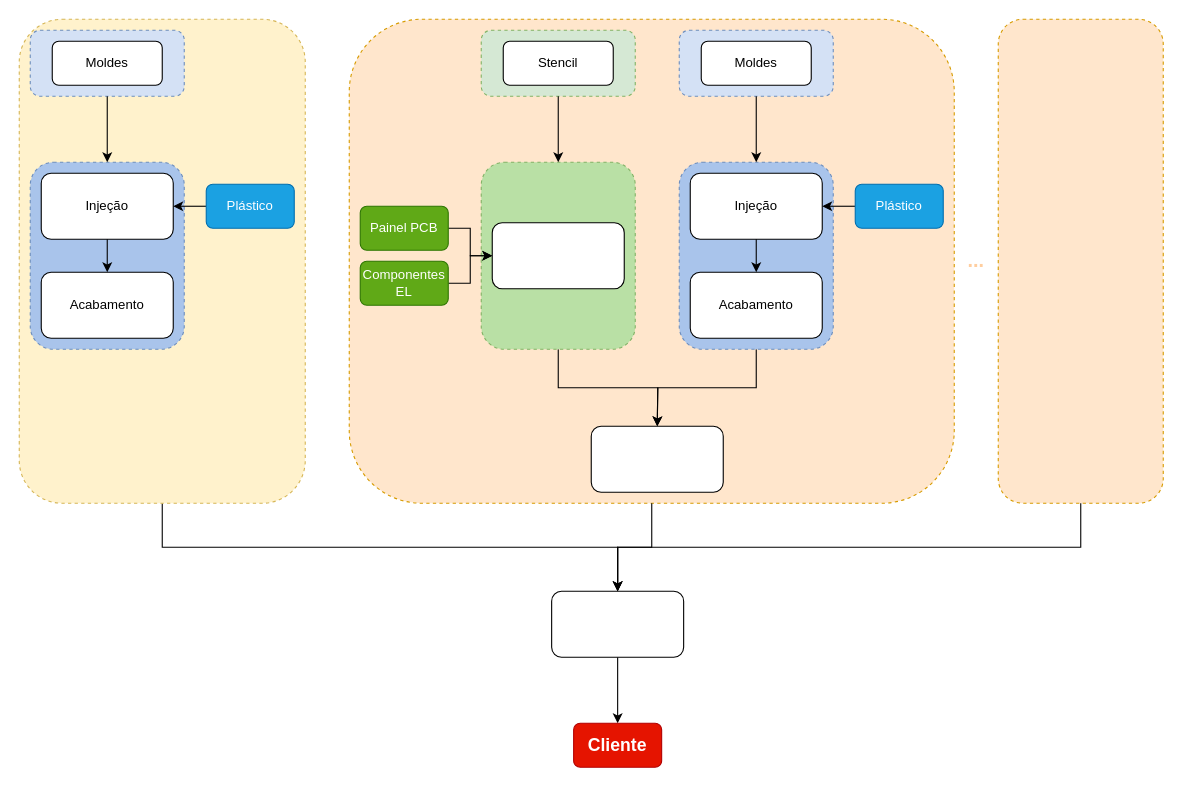
This 1183x787 diagram has some shape labels left out. The shapes that lost their labels are listed below. From the top down, each one's centre as x and y in pixels, then its label:
At (x=557, y=255): "Assemblagem PCB".
At (x=656, y=458): "Assemblagem da peça".
At (x=617, y=623): "Empacotamento do kit".
